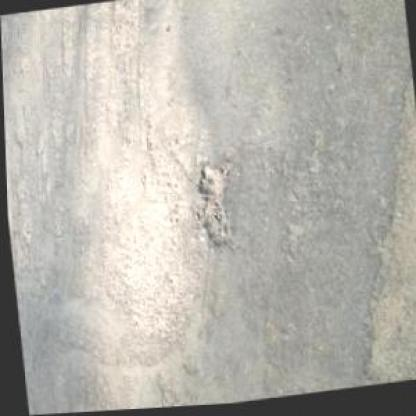pothole: (327, 59, 415, 392), (191, 157, 236, 251)
